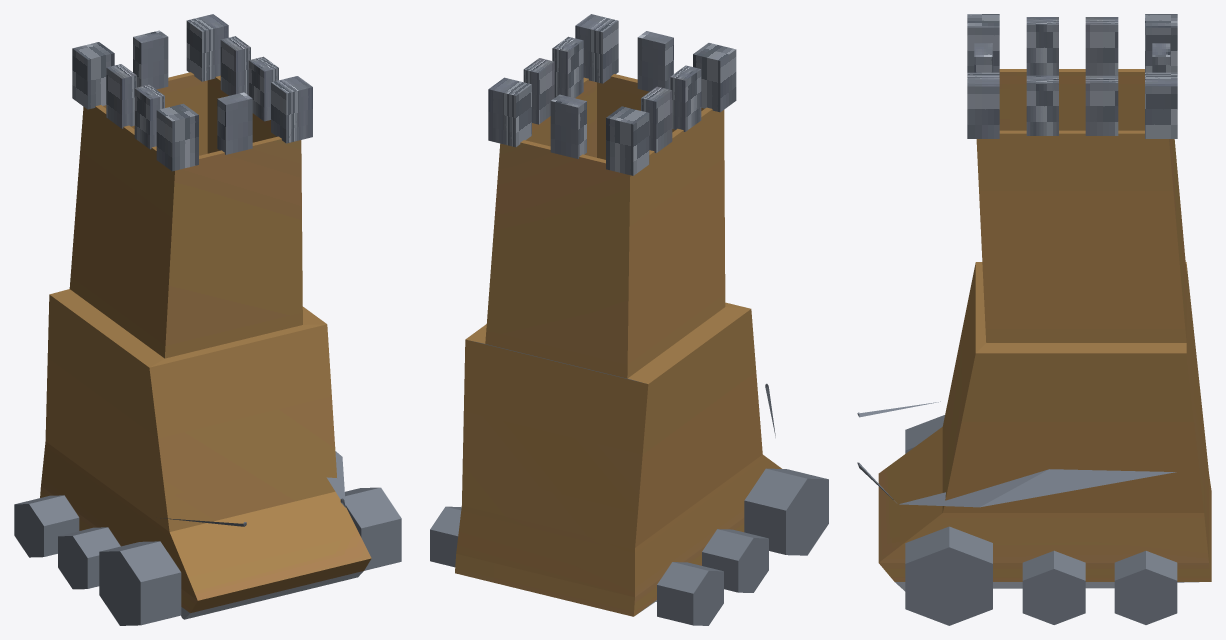
The model's file is ae_siege_tower_open_iron_lod2.glb.
3 renders of one model, left to right at view 1: azimuth 30°, elevation 25°; view 2: azimuth 150°, elevation 25°; view 3: azimuth 270°, elevation 25°, orthographic. The views are drawn at different scales.
Visible parts, largest first — view 1: siege_tower_open; view 2: siege_tower_open; view 3: siege_tower_open.
Boxes of the visible parts, left/top/right/bottom form: siege_tower_open: left=14, top=14, right=401, bottom=625; siege_tower_open: left=430, top=14, right=828, bottom=625; siege_tower_open: left=857, top=14, right=1211, bottom=625.
Bounding box in the file's own units: 46.39 × 82.22 × 51.85.
Materials: 4 (3 with a texture image).
